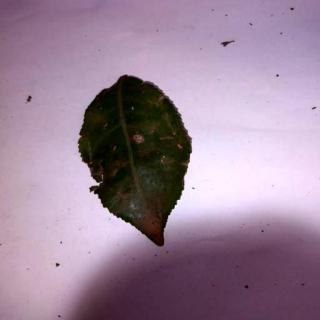Anthracnose: (77, 76, 194, 248)
